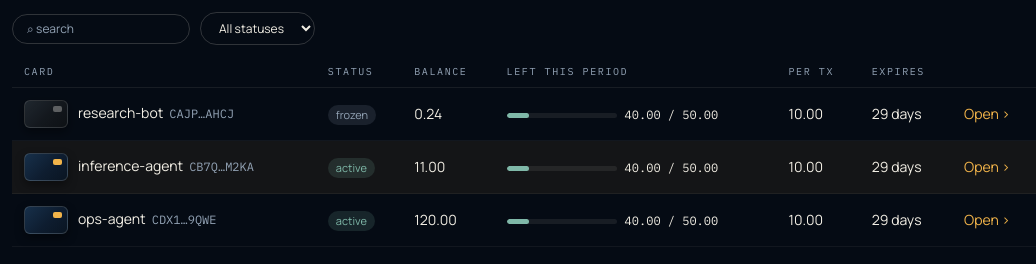
CardList › says so when the filters match nothing
Step 1. Type "zzzz" into the search field named "Search cards" → [101, 28], box [12, 14, 190, 44]
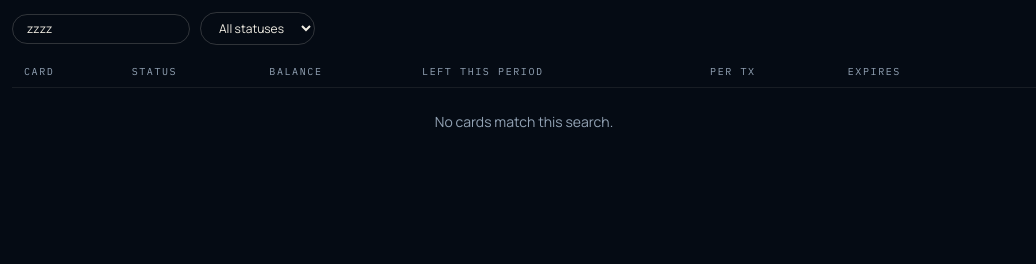
Expected: the text "No cards match this search." is shown, [435, 112, 613, 131]
